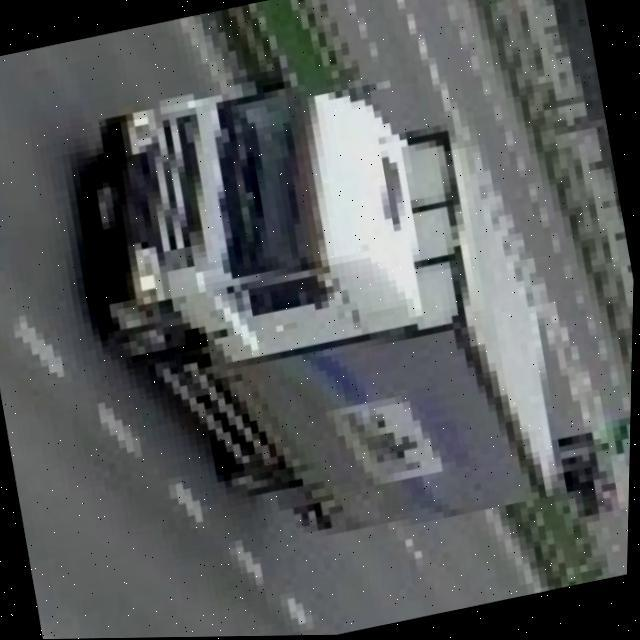truck: (56, 5, 582, 574)
